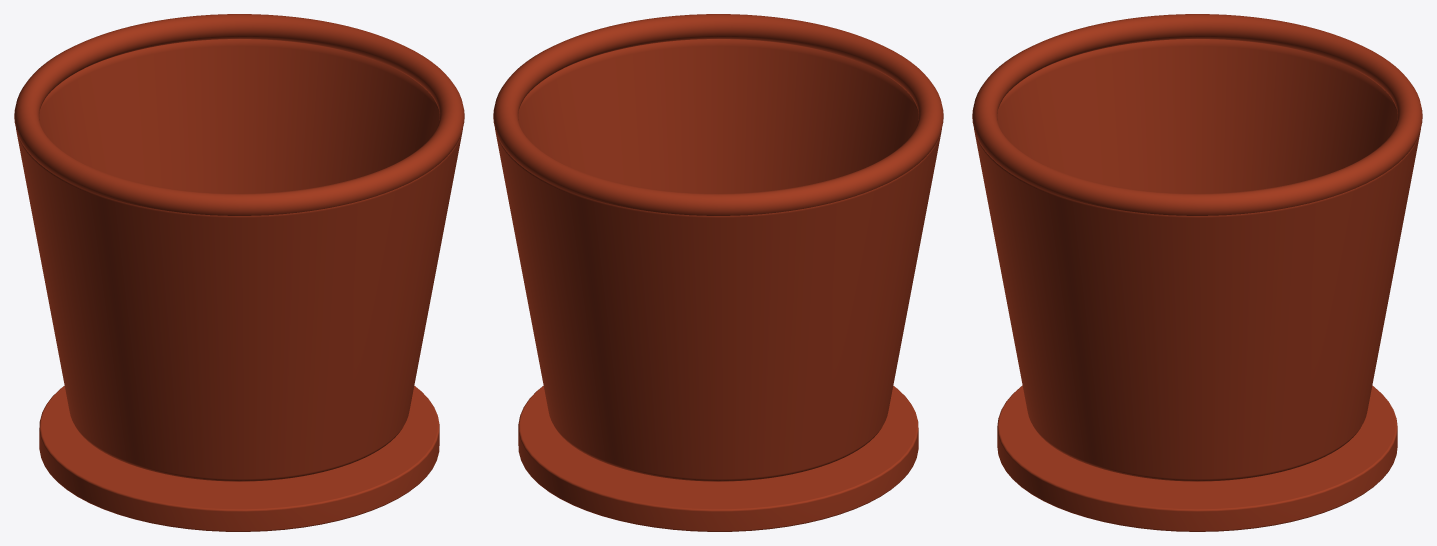
Rendered from Empty_Flower_Pot.obj.
3 renders of one model, left to right at view 1: azimuth 30°, elevation 25°; view 2: azimuth 150°, elevation 25°; view 3: azimuth 270°, elevation 25°, orthographic.
Visible parts, largest first — view 1: SM_Empty_Flower_Pot_Top_Open, SM_Flower_Pot_Open_Rim, SM_Unterteller; view 2: SM_Empty_Flower_Pot_Top_Open, SM_Flower_Pot_Open_Rim, SM_Unterteller; view 3: SM_Empty_Flower_Pot_Top_Open, SM_Flower_Pot_Open_Rim, SM_Unterteller.
Part boxes in pixels (x1,y1,x2,y2): SM_Empty_Flower_Pot_Top_Open: [16, 39, 462, 481]; SM_Flower_Pot_Open_Rim: [14, 14, 464, 215]; SM_Unterteller: [39, 386, 439, 531]; SM_Empty_Flower_Pot_Top_Open: [495, 39, 941, 481]; SM_Flower_Pot_Open_Rim: [493, 14, 943, 215]; SM_Unterteller: [518, 386, 918, 531]; SM_Empty_Flower_Pot_Top_Open: [974, 39, 1420, 481]; SM_Flower_Pot_Open_Rim: [972, 14, 1422, 215]; SM_Unterteller: [997, 385, 1397, 531].
Bounding box in the file's own units: 1.44 × 1.21 × 1.44.
